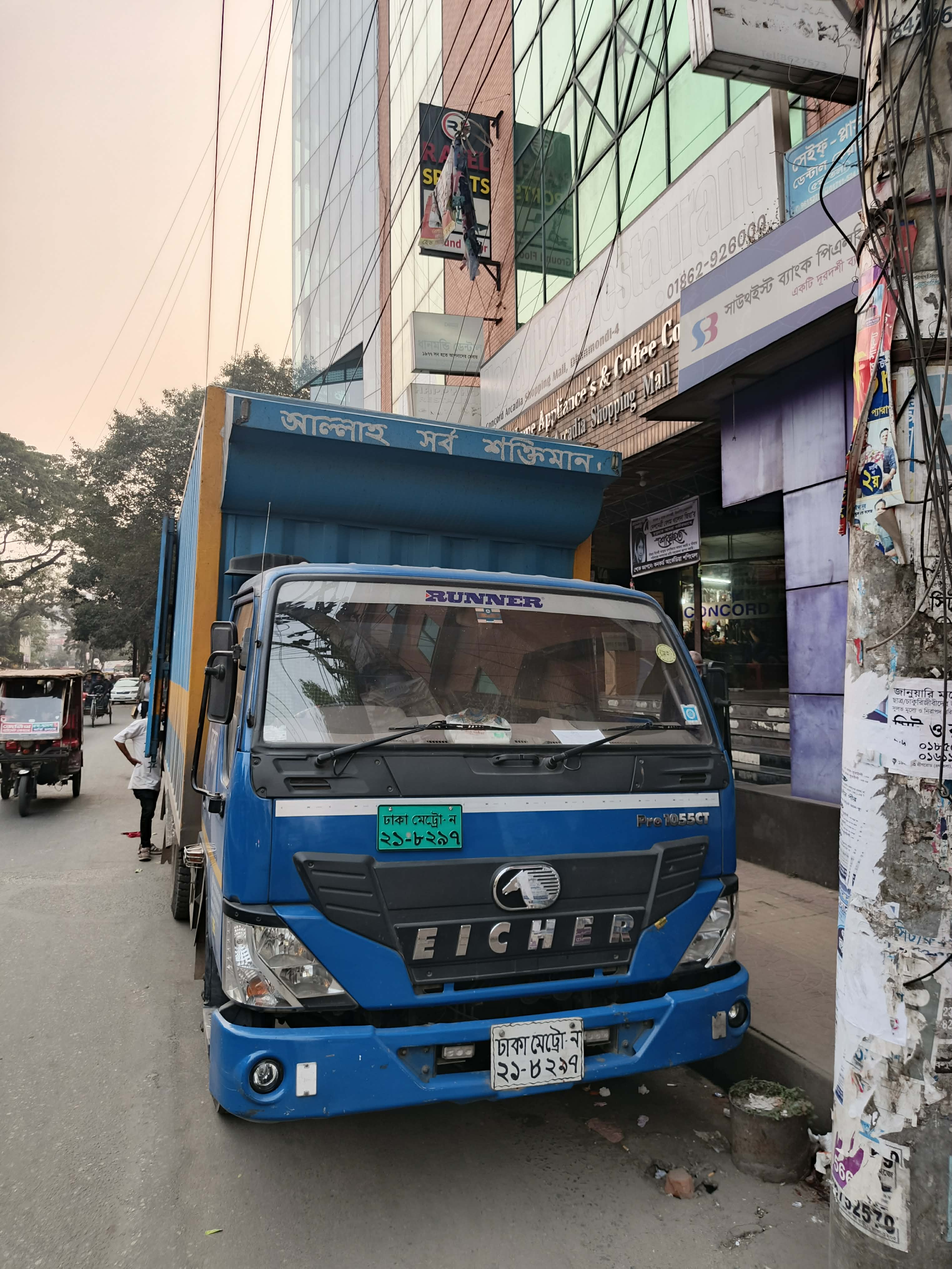Pickup: (141, 328, 797, 1182)
auto-ricksaw: (9, 638, 110, 855)
